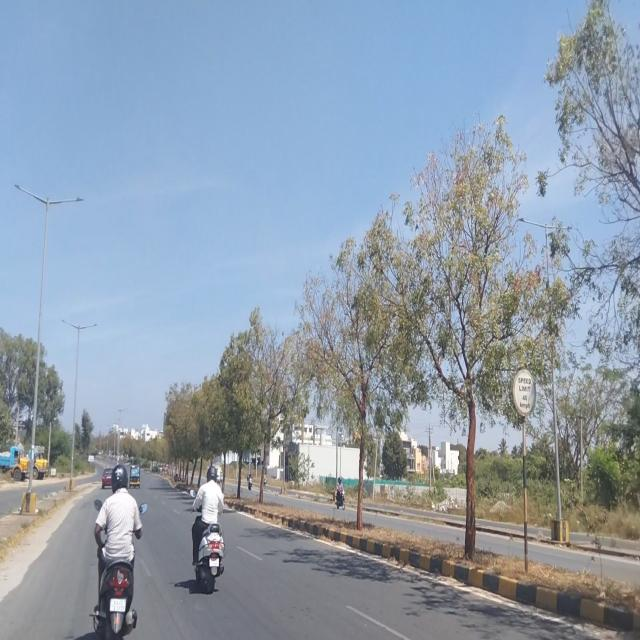bien_cam: (512, 365, 536, 418)
